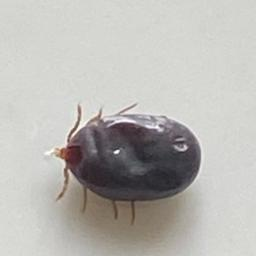Rhipicephalus sanguineus: (49, 101, 202, 226)
